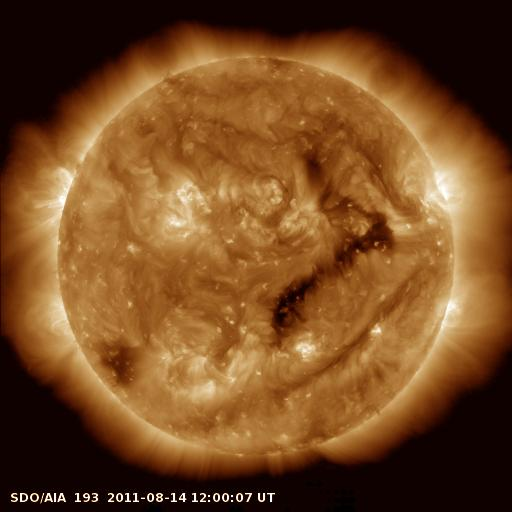coronal_hole: (271, 215, 396, 333), (296, 151, 331, 187)
